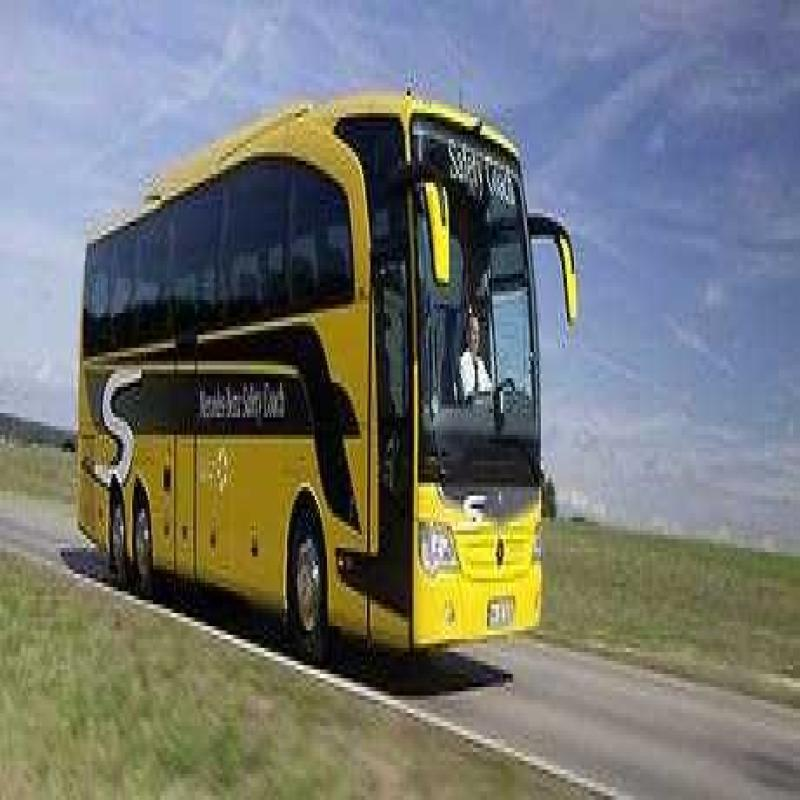bus: (75, 101, 594, 716)
